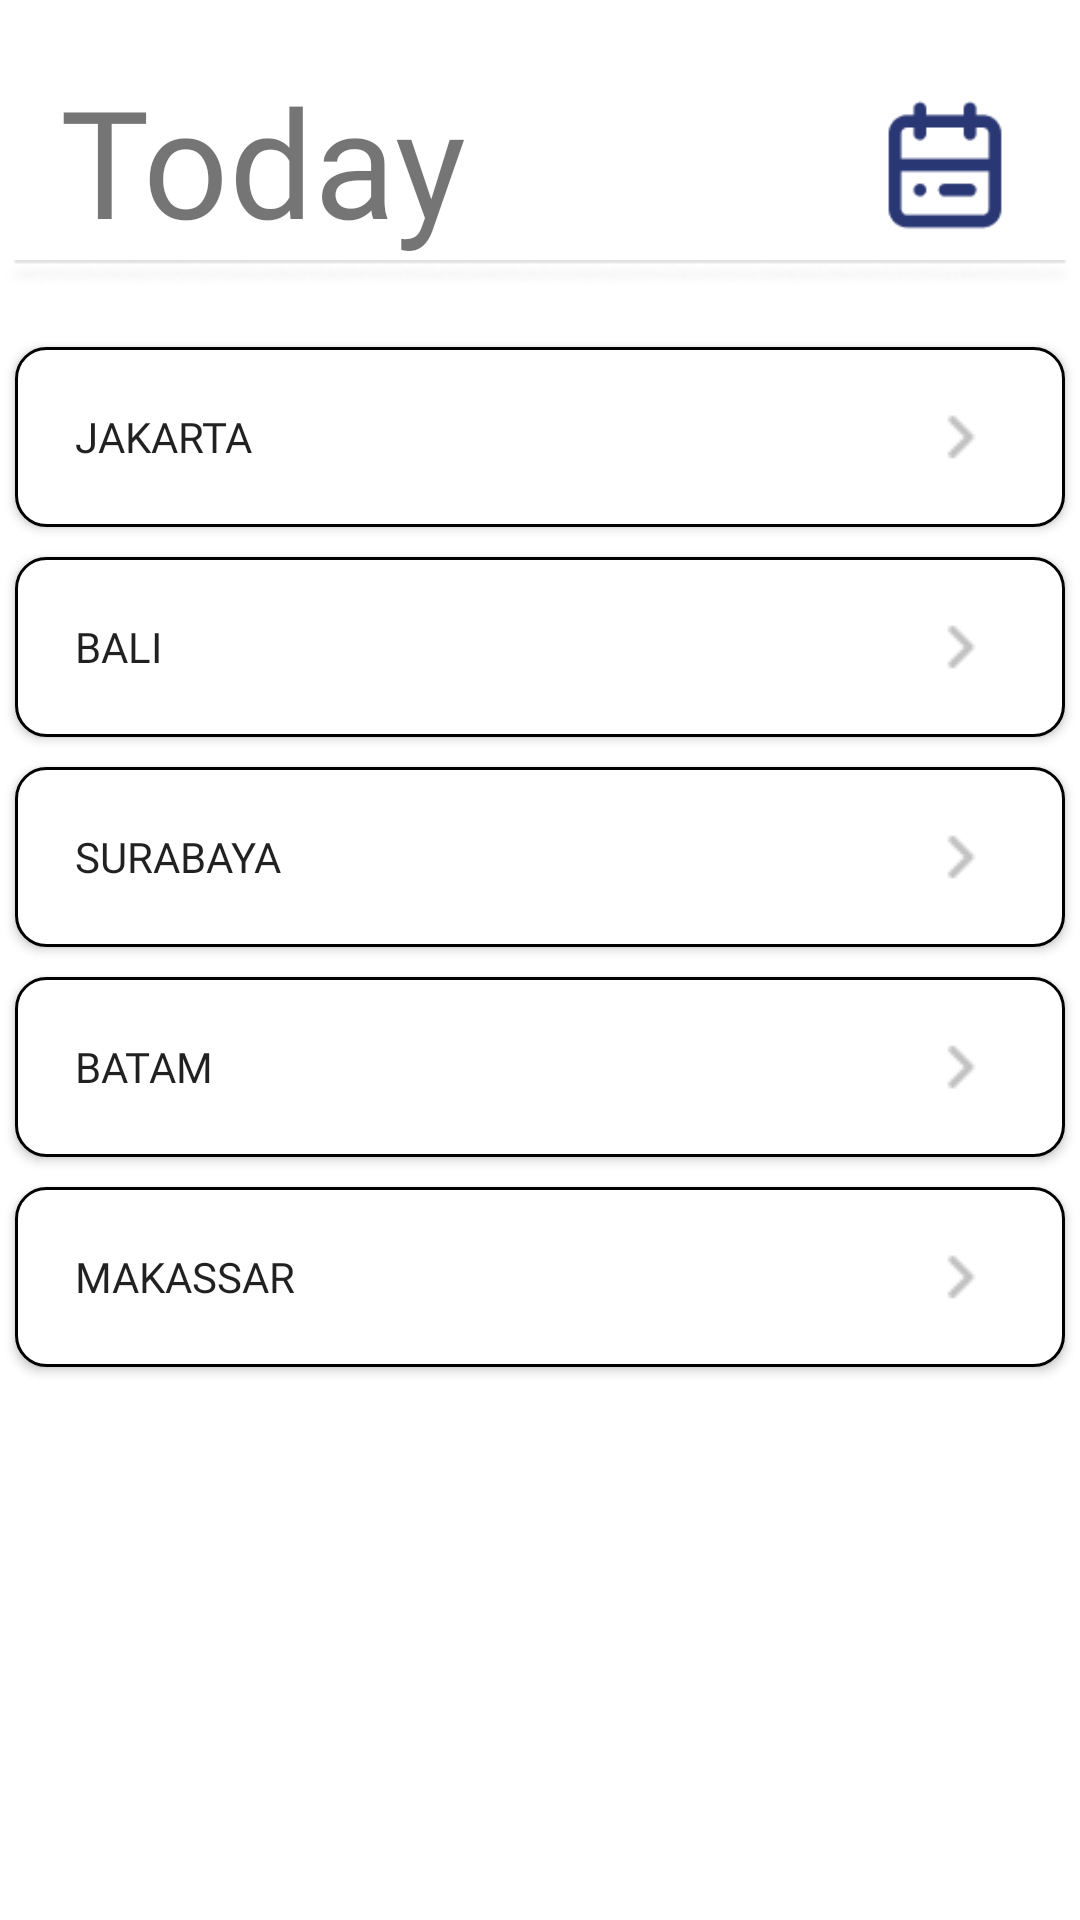

Icon click points for this 1080 × 1920 phone screenshot, format (x=x, y=y):
calendar: (x=945, y=165)
